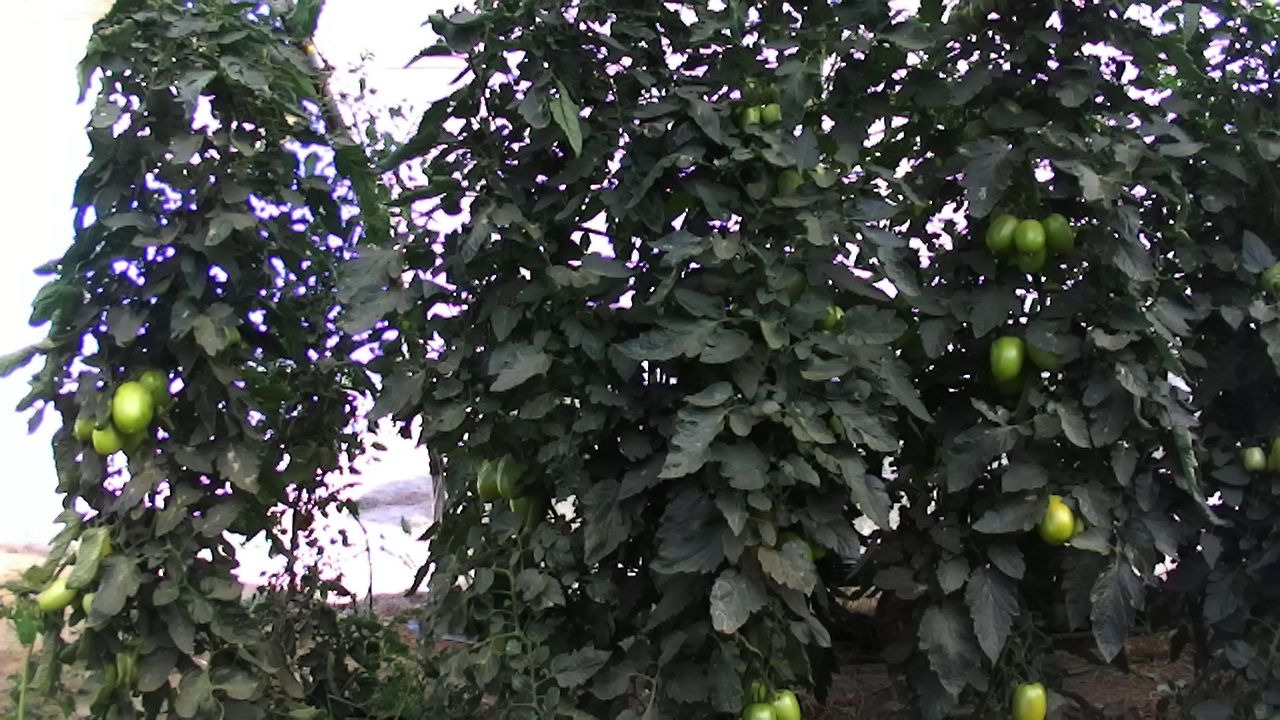tomato: (110, 379, 156, 435), (32, 563, 81, 615), (1035, 490, 1075, 549), (985, 332, 1028, 386), (495, 448, 535, 501), (136, 361, 173, 410), (1007, 679, 1050, 720), (984, 212, 1020, 255), (1010, 218, 1048, 258), (1041, 213, 1076, 256), (473, 454, 503, 503), (88, 423, 124, 457), (69, 409, 99, 447), (765, 689, 800, 720), (1240, 443, 1268, 474), (743, 702, 774, 720)
